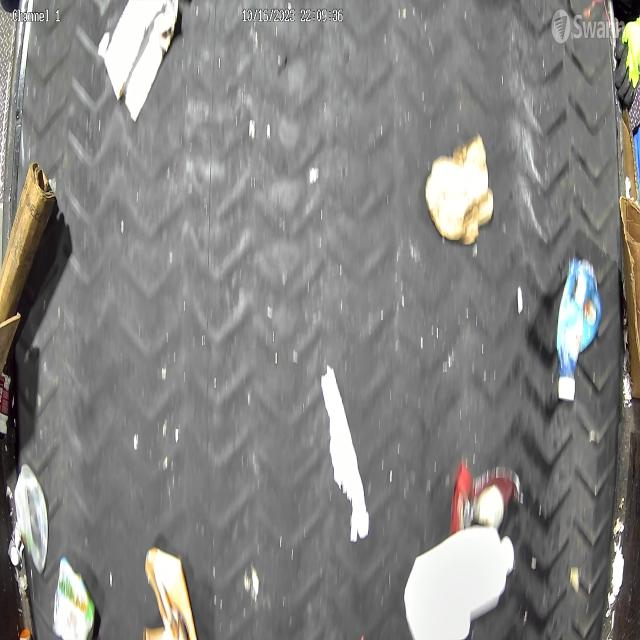can: (52, 556, 97, 640)
milk_jug: (404, 522, 514, 640)
